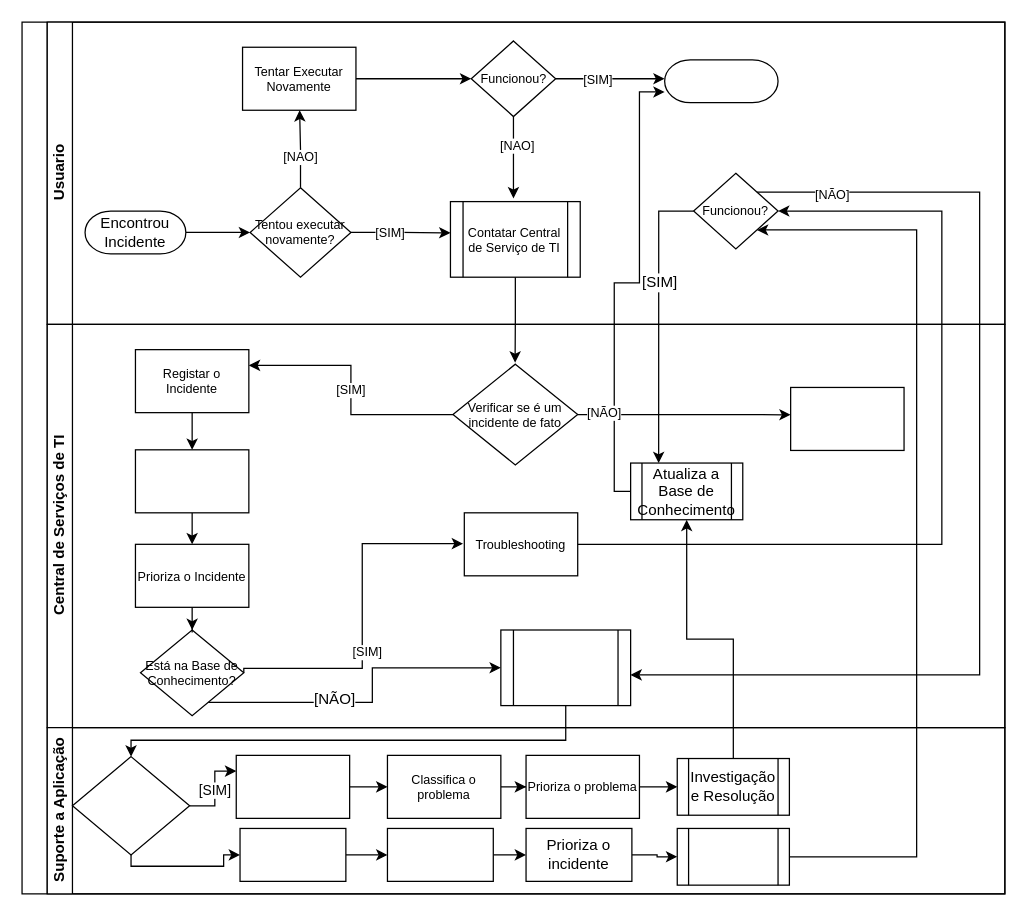
This 1027x916 diagram has some shape labels left out. The shapes that lost their labels are listed below. From the top down, each one's box as (x1, y1, x2, y2) in pixels, then its label:
(663, 59, 778, 103): Resolvido
(789, 386, 904, 450): Encaminhar para área requisitada
(134, 449, 249, 513): Categoriza o Incidente
(500, 629, 631, 706): Escala p/ Suporte a Aplicação
(71, 755, 190, 855): É um incidente recorrente ou com causa desconhecida?
(235, 754, 350, 818): Registar como problema
(239, 827, 346, 881): Registrar como incidente
(386, 827, 493, 881): Classifica o incidente
(676, 827, 789, 885): Resolve
